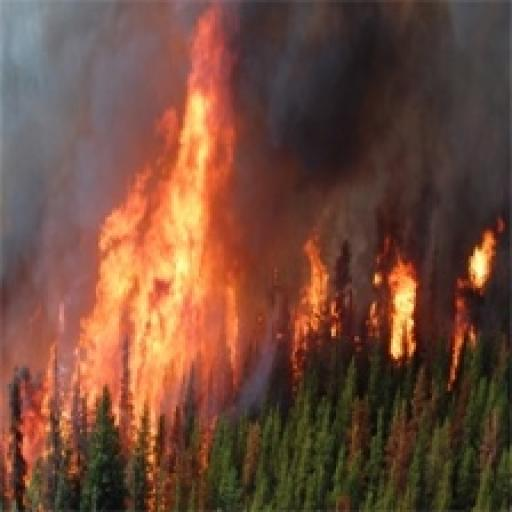fire and smoke: (0, 3, 509, 409)
